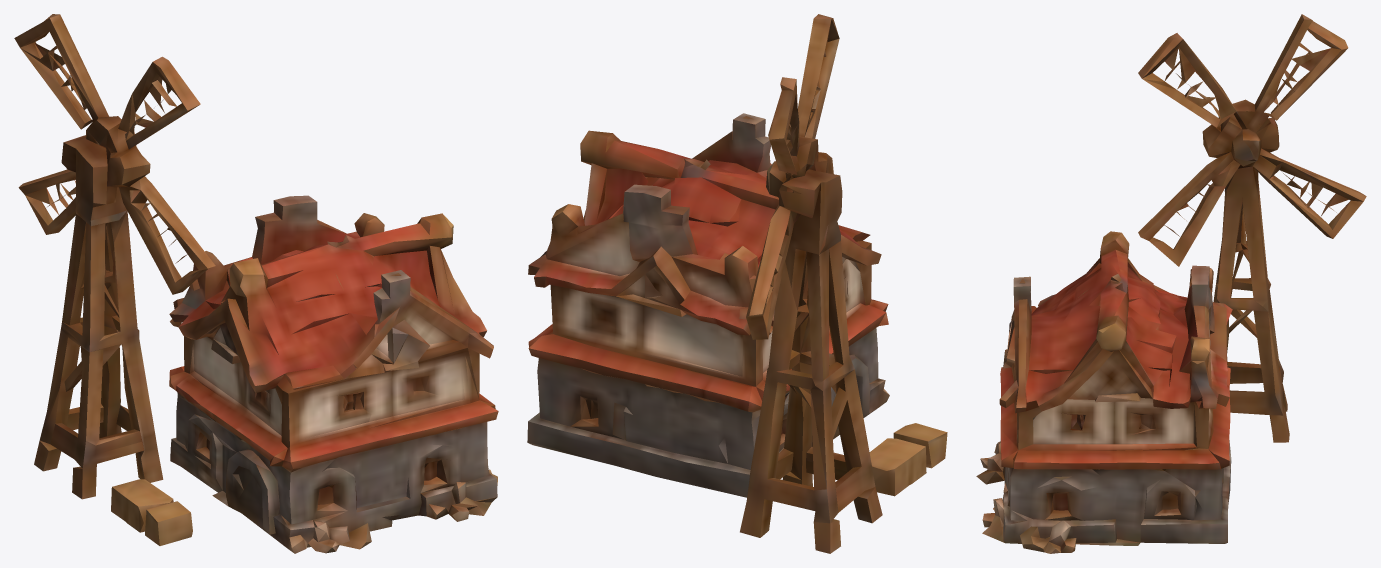
File: farm2.lod2.glb
The picture shows the model from 3 angles, left to right: view 1: azimuth 30°, elevation 25°; view 2: azimuth 150°, elevation 25°; view 3: azimuth 270°, elevation 25°; orthographic projection. The views are drawn at different scales.
Parts seen in each view (by area): view 1: farm2.lod2_uv; view 2: farm2.lod2_uv; view 3: farm2.lod2_uv.
Boxes of the visible parts, x1,y1,x2,y2 form: farm2.lod2_uv: (14,14,498,553); farm2.lod2_uv: (527,14,947,553); farm2.lod2_uv: (976,14,1366,553).
Size of the model in its own units: 1.51 by 1.9 by 1.67.
1 material, 1 textured.
